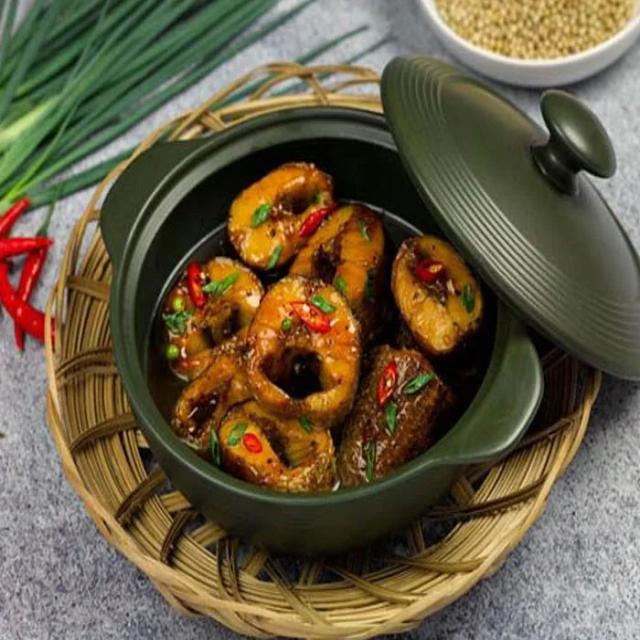ca kho: (164, 162, 484, 493)
